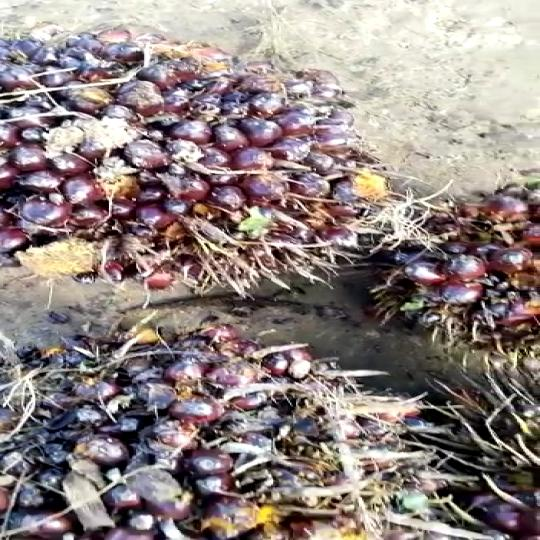masak: (0, 34, 396, 312), (0, 314, 485, 540)
